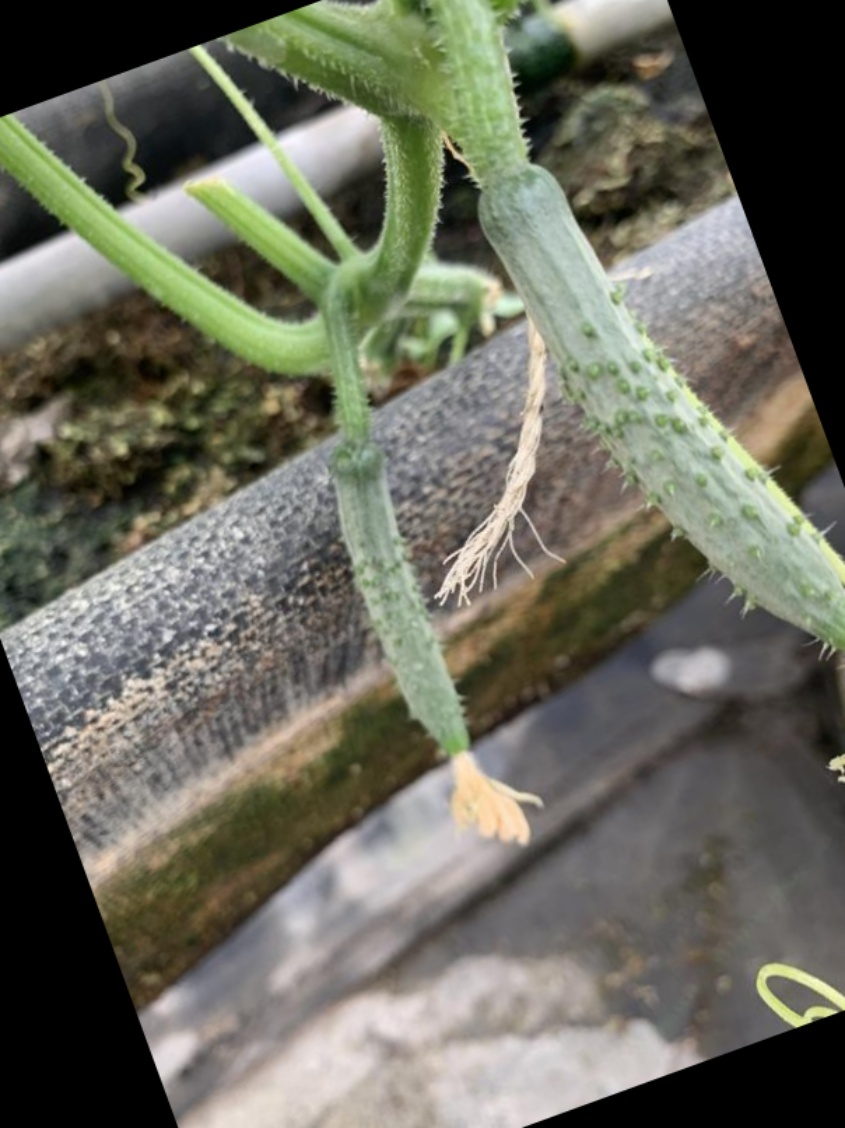bear: (309, 437, 528, 826)
